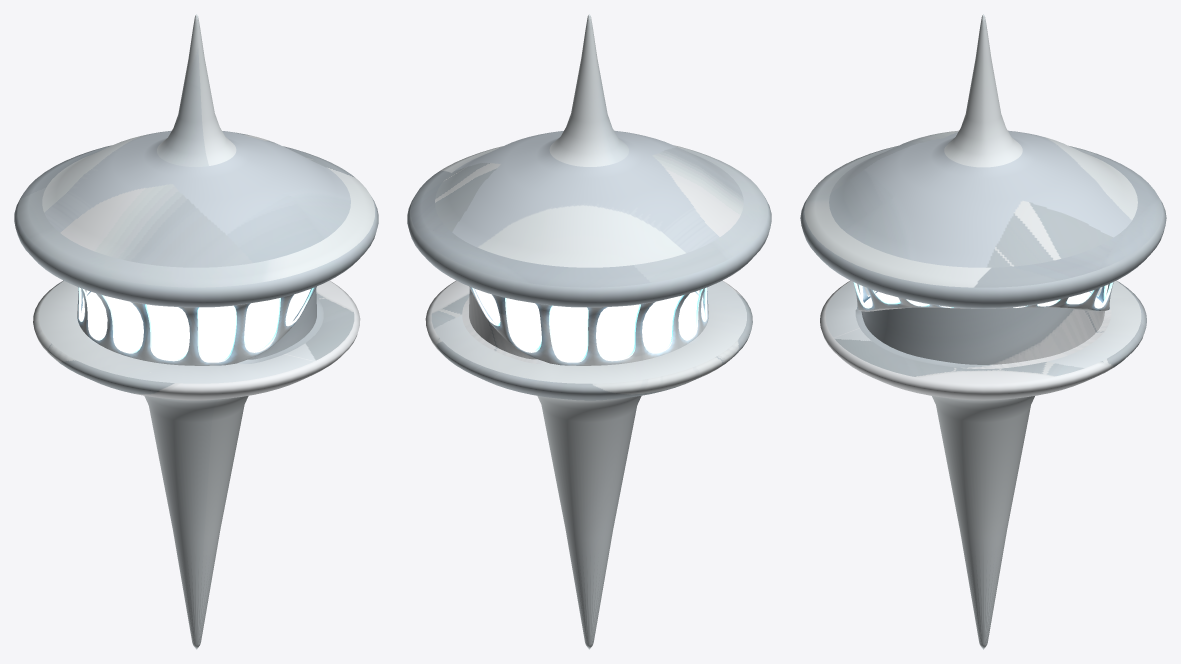
The model's file is newTurnip.fbx.
3 views of the same model, side by side, from view 1: azimuth 30°, elevation 25°; view 2: azimuth 150°, elevation 25°; view 3: azimuth 270°, elevation 25° (orthographic).
Visible parts, largest first — view 1: turnip; view 2: turnip; view 3: turnip.
Part boxes in pixels (bbox=[...]): turnip: bbox=[14, 14, 378, 649]; turnip: bbox=[407, 14, 771, 649]; turnip: bbox=[800, 14, 1166, 649].
Bounding box in the file's own units: 1.46 × 2.8 × 1.46.
